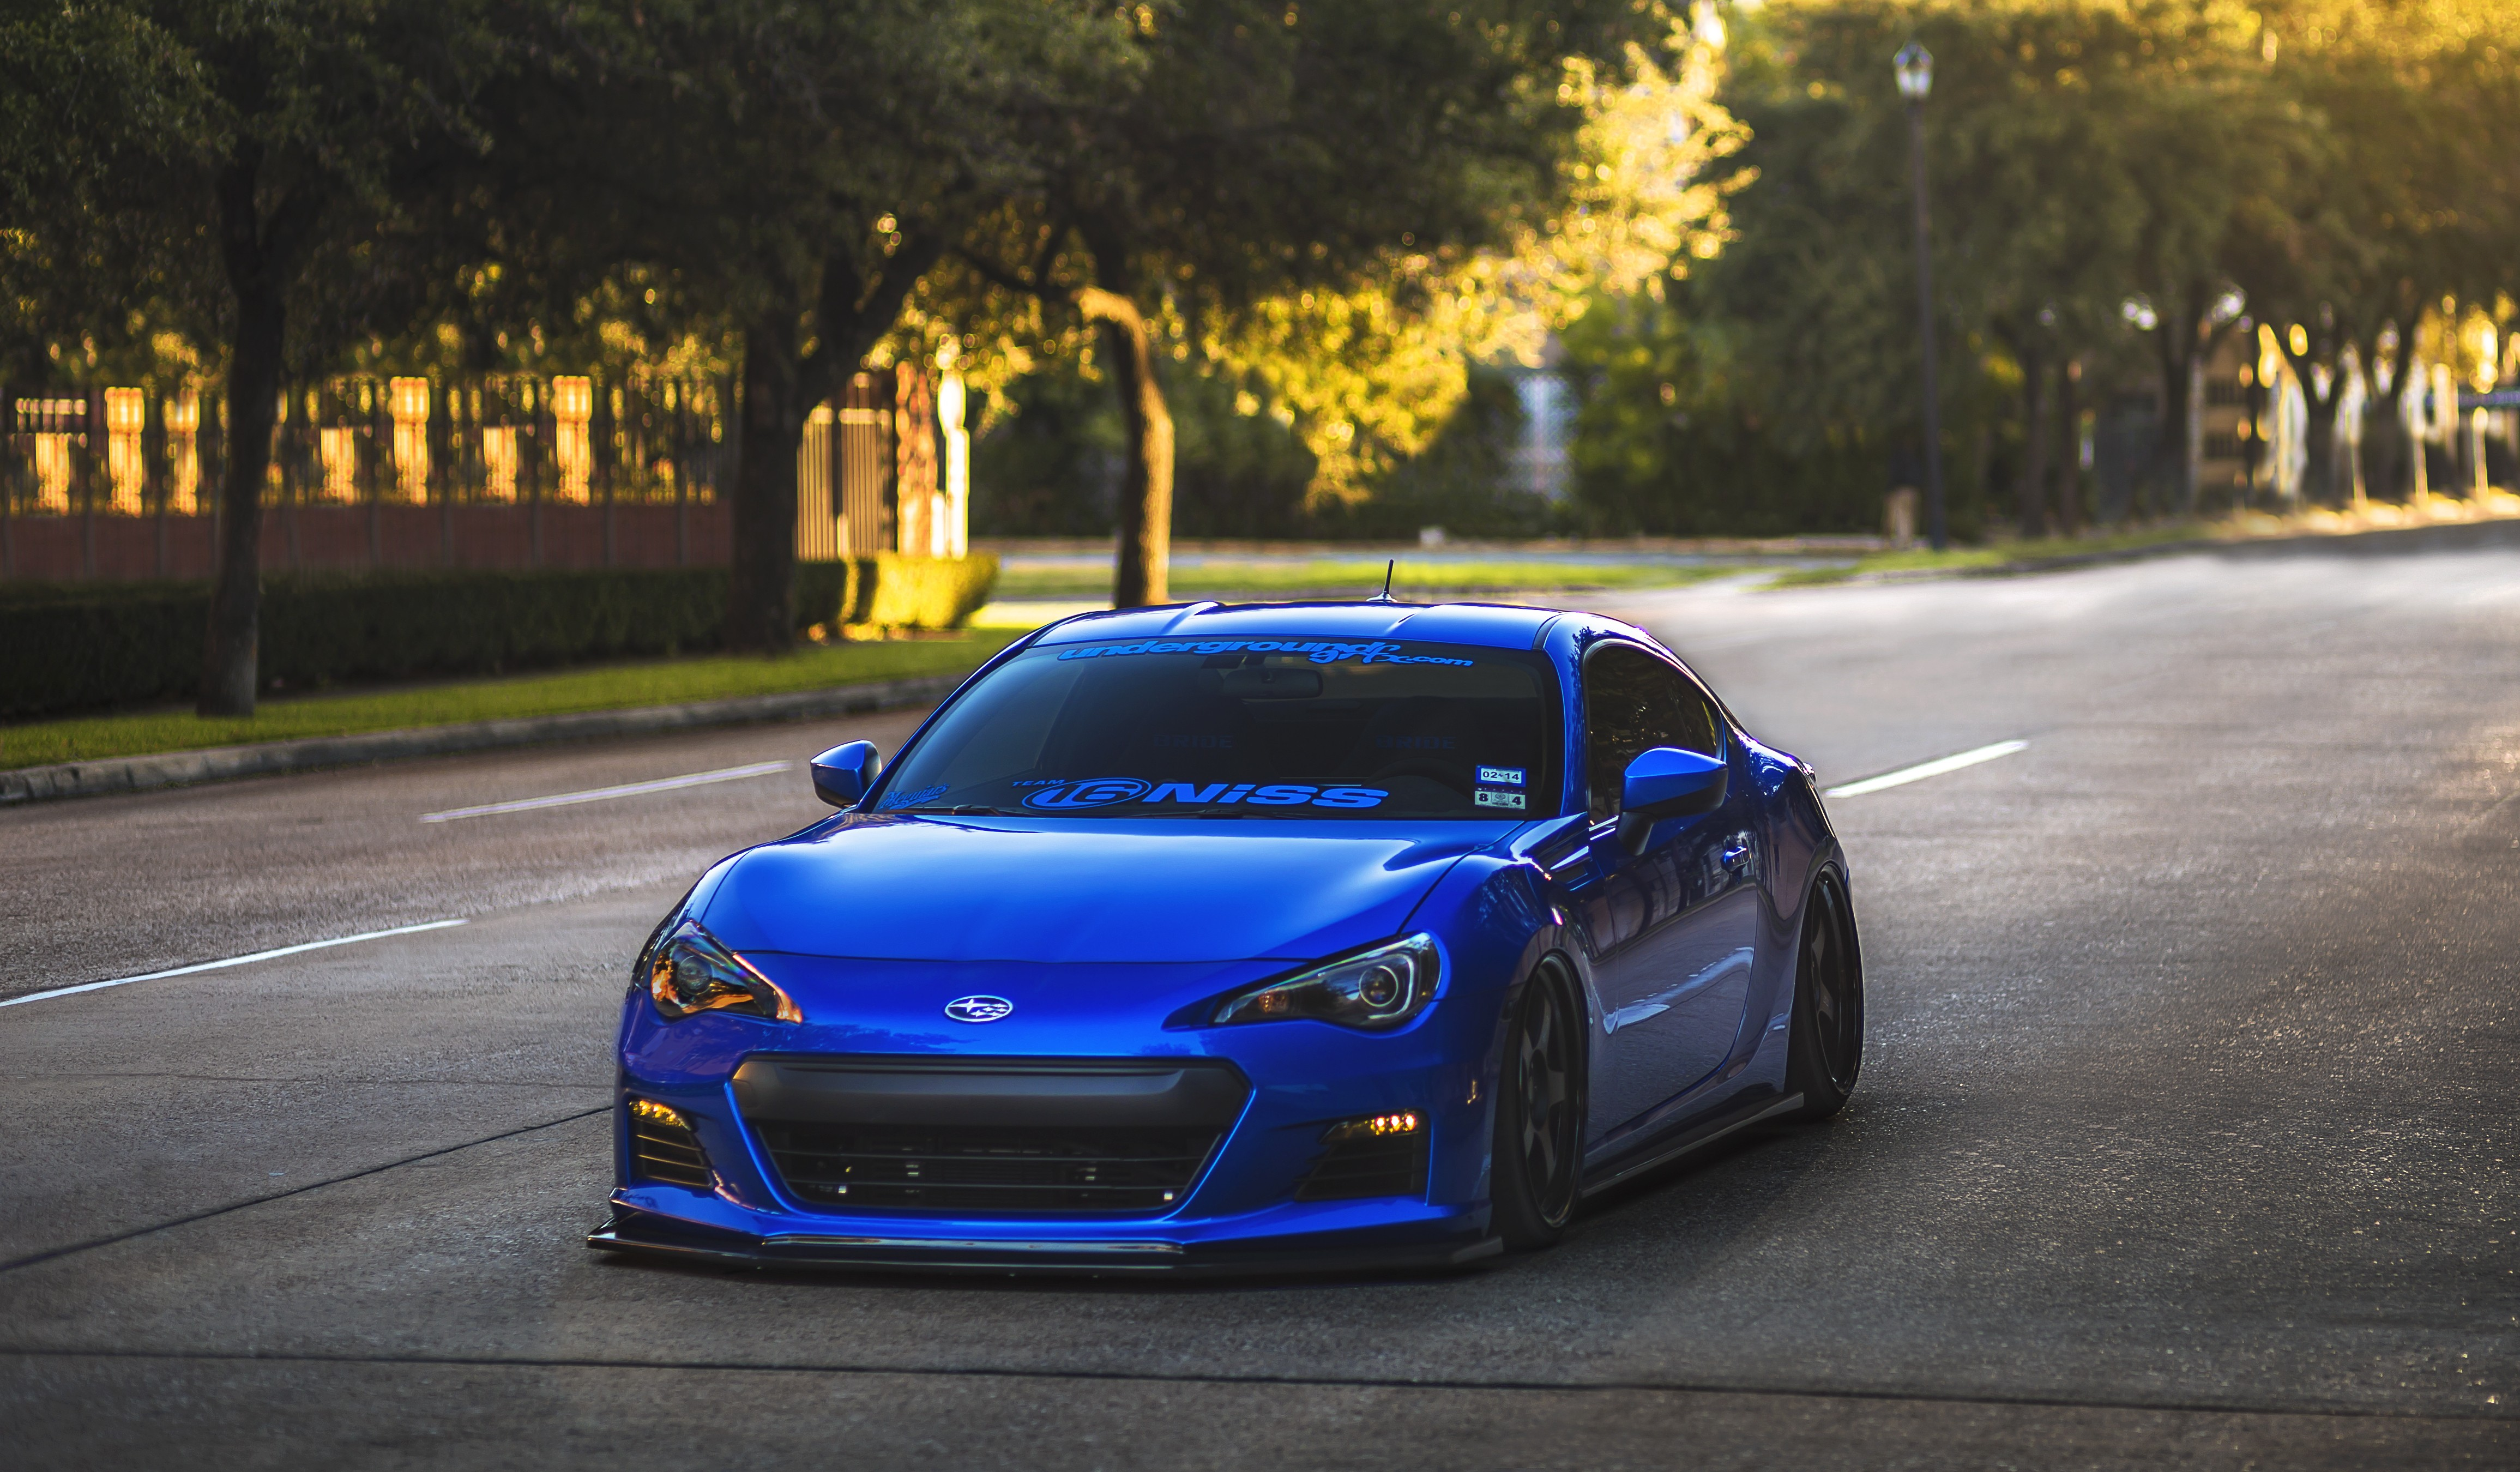headlight: (1172, 931, 1430, 1020), (634, 927, 794, 1025)
wheel: (1474, 941, 1616, 1272), (1763, 911, 1886, 1141)
